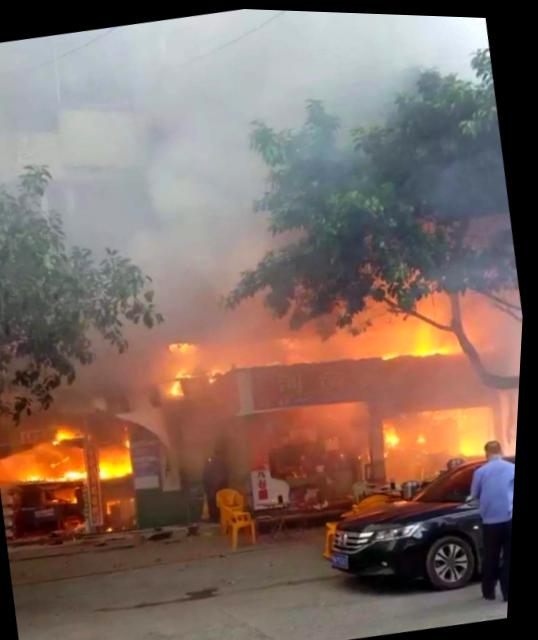fire: (15, 415, 143, 501), (382, 394, 501, 474), (386, 302, 467, 364), (167, 333, 230, 394)
